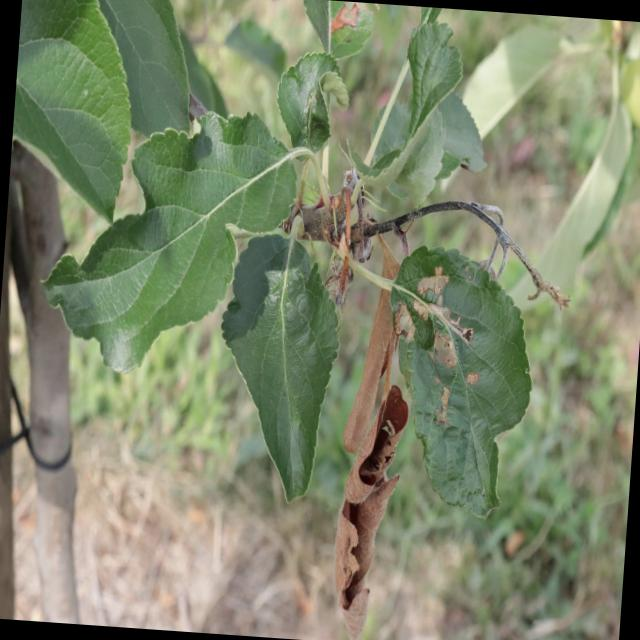-FireBlight-: (305, 243, 414, 625)
